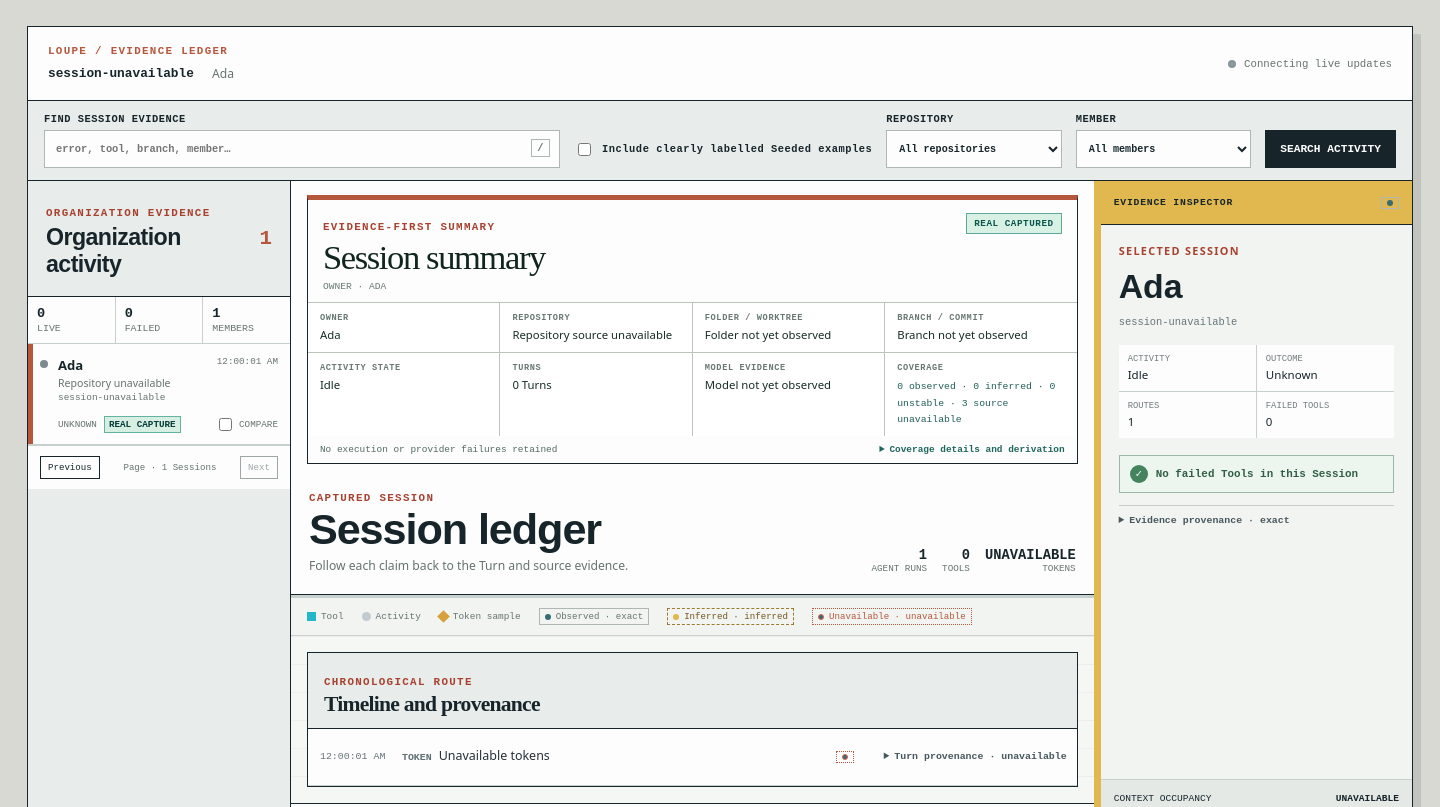
an individual Token sample names every category and its model-source limitation
Click the button with aria-label "Token: Unavailable tokens" at (353, 757), box [308,729,874,785]
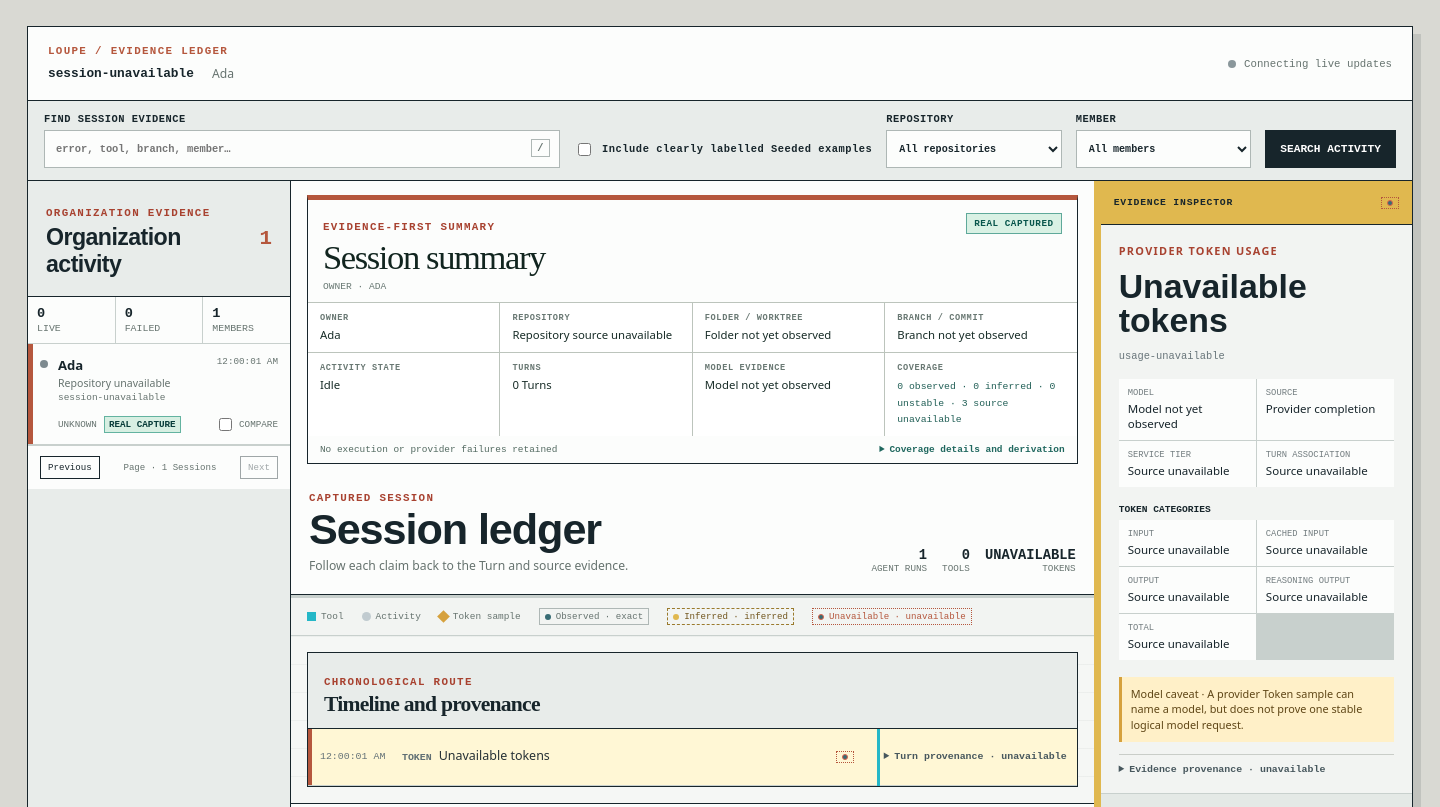
Now the text "Input" is shown, box [1128,529,1154,539]
Now the text "Cached input" is shown, box [1266,529,1329,539]
Now the text "Output" is shown, box [1128,576,1159,586]
